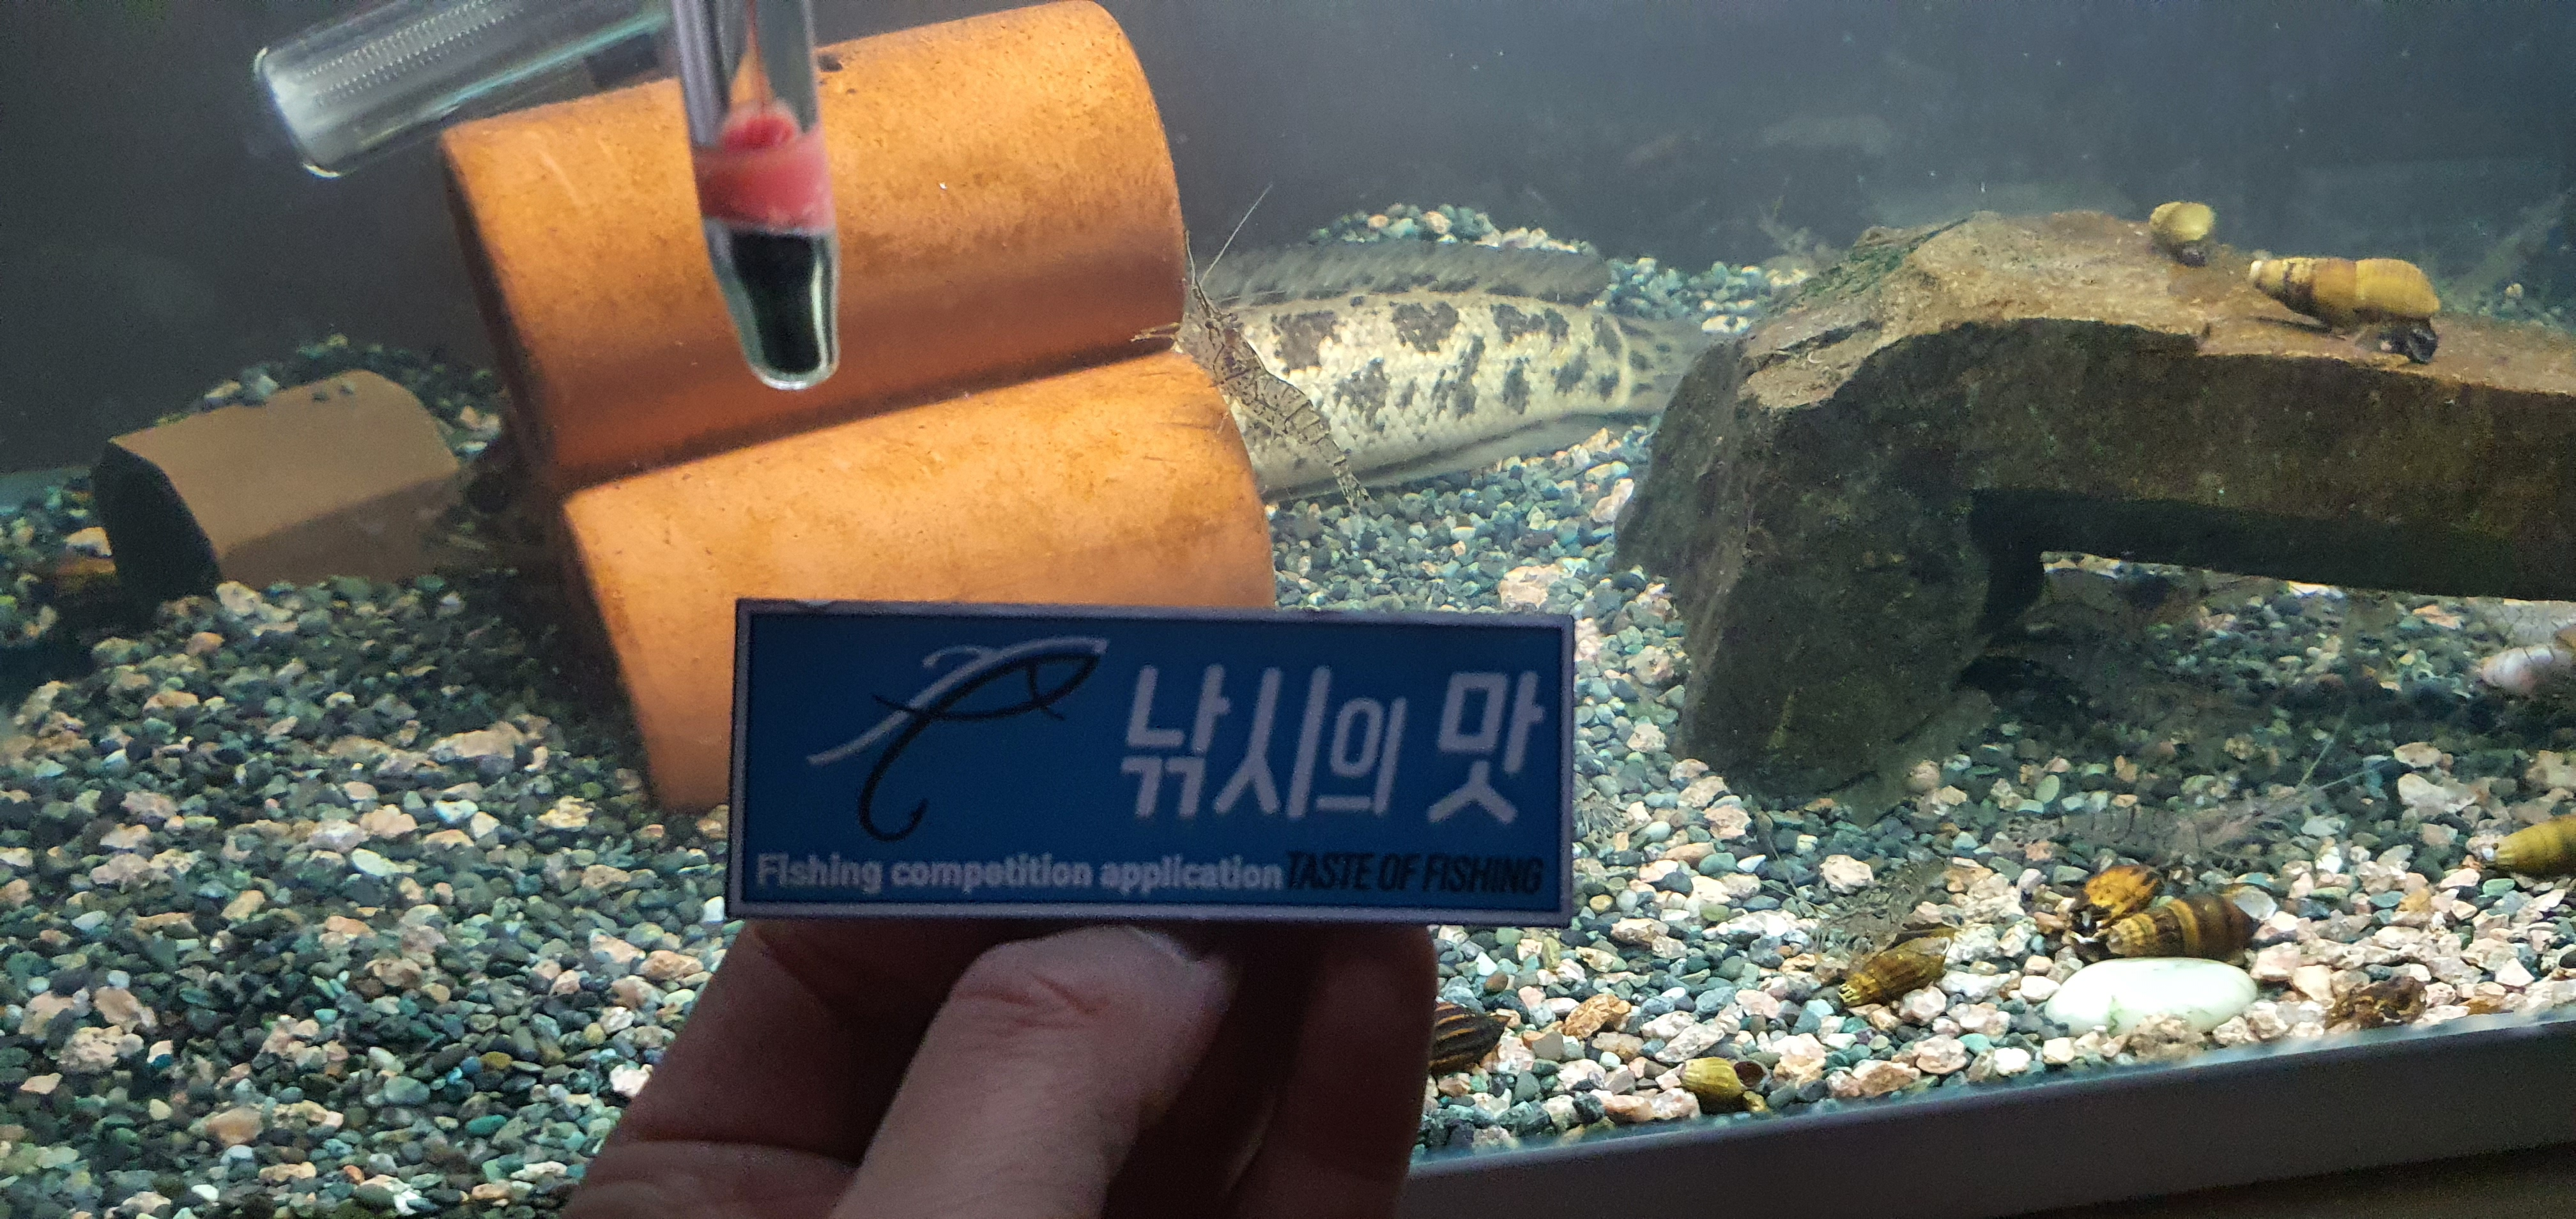tag: (733, 598, 1580, 930)
